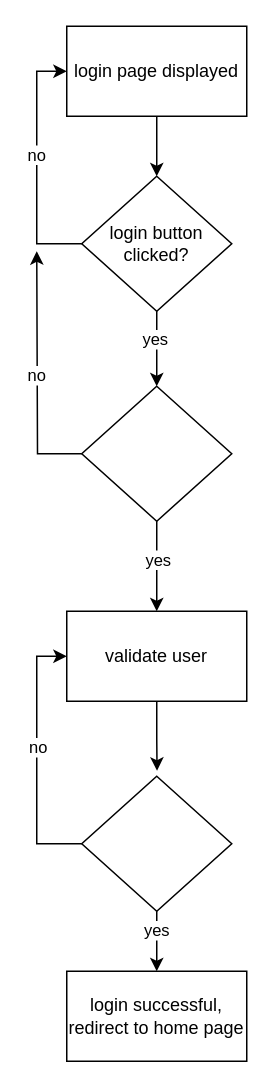
This 273x1088 diagram has some shape labels left out. Each missing label, with the centre of its shape:
is login valid?: the point at 156,843
reCAPTCHA verified?: the point at 156,453
